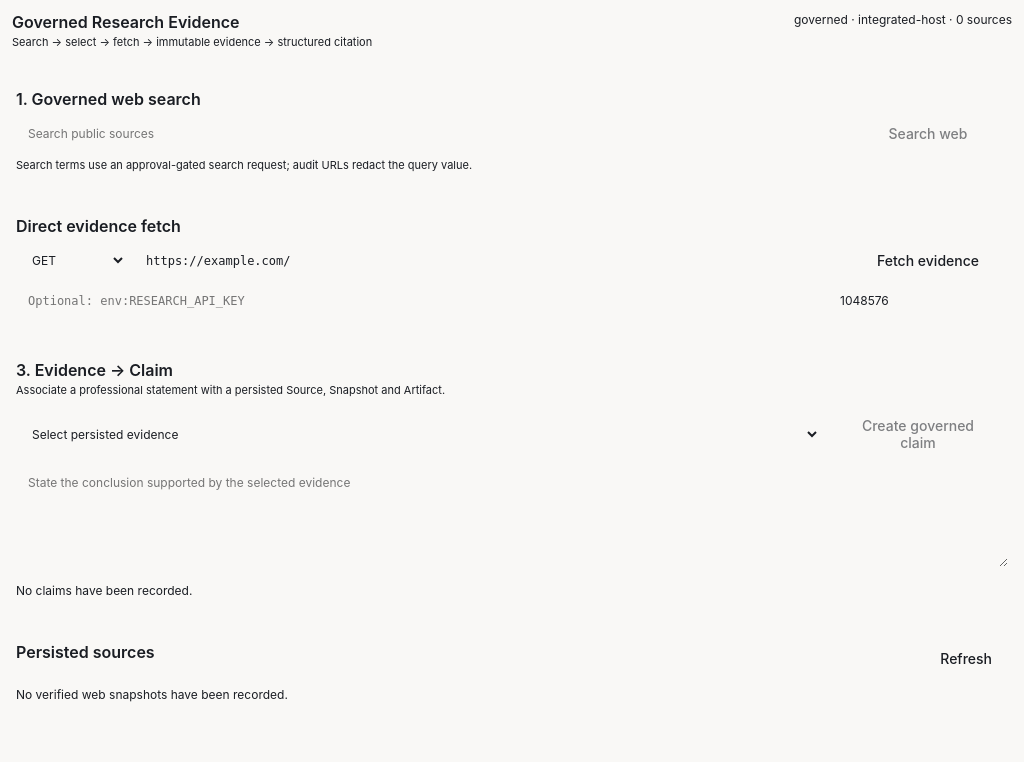
Test: research evidence workbench › requires an explicit click and retries the identical reviewed request
expect the text "governed · integrated-host · 0 sources" is shown: met, box [794,12,1012,27]
What coordinates should you click on to do the following:
click the button "Fetch evidence"
I would click on:
 (928, 260)
Its box is [848,244,1008,277].
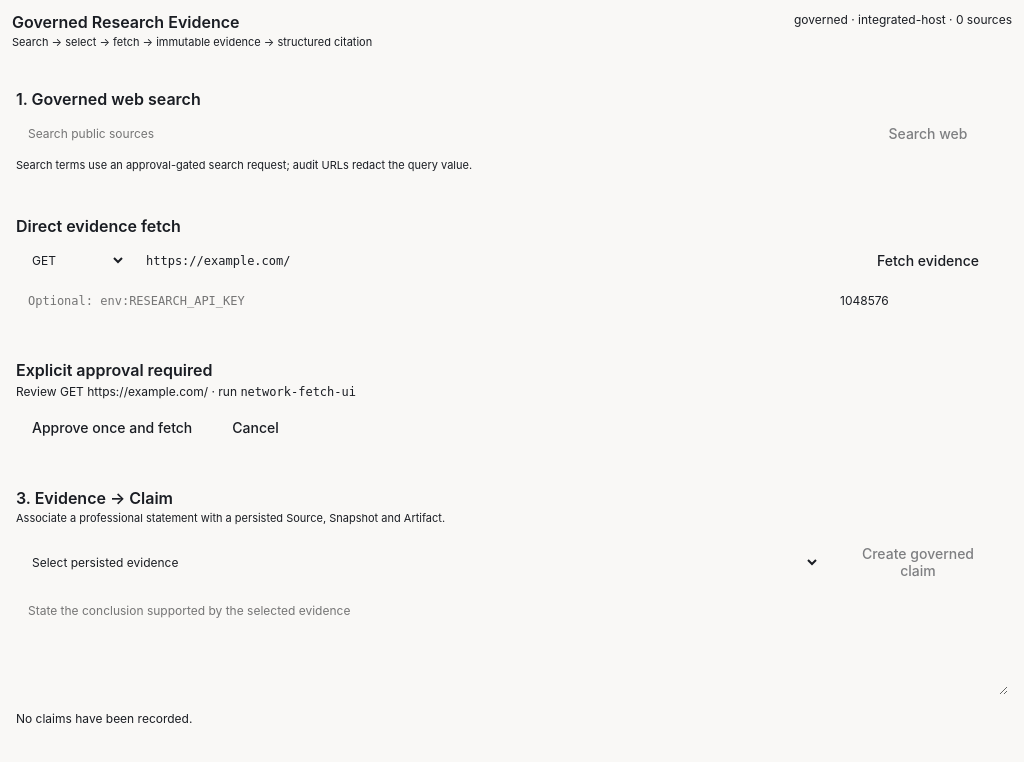
expect the text "Explicit approval required" is shown: met, box [16,360,212,380]
What coordinates should you click on to do the following:
click the button "Approve once and fetch"
I would click on:
 (112, 428)
Its box is [16,411,208,444].
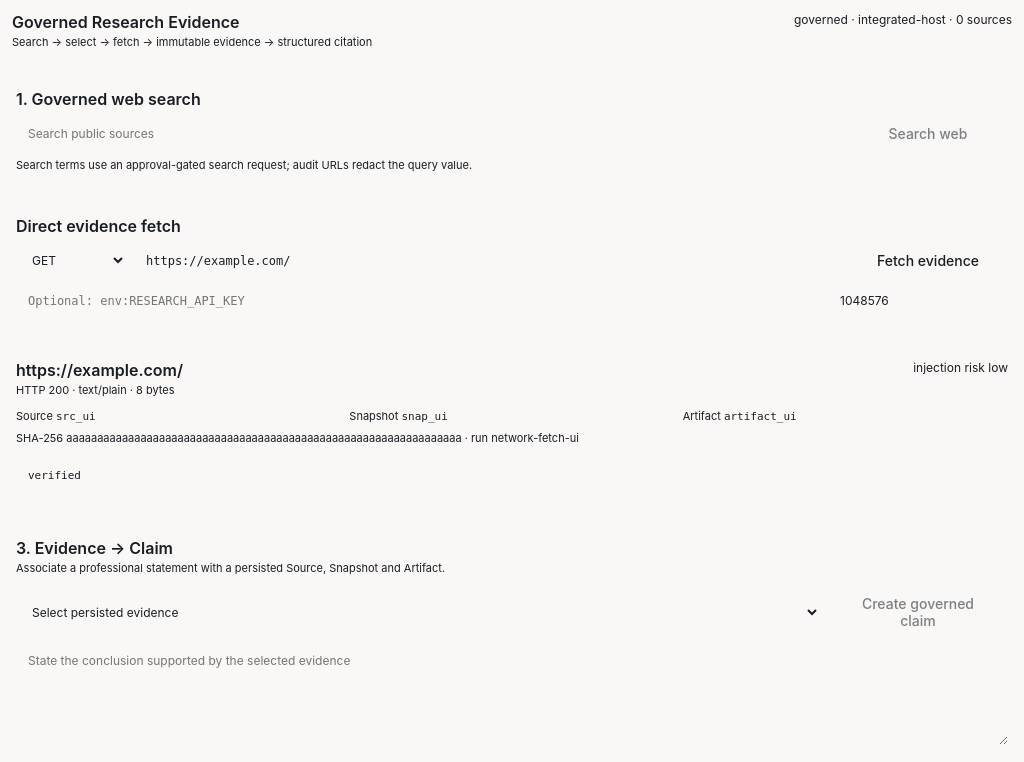
expect the text "verified" is shown: met, box [28,469,81,482]
expect the text "artifact_ui" is shown: met, box [724,410,797,423]
